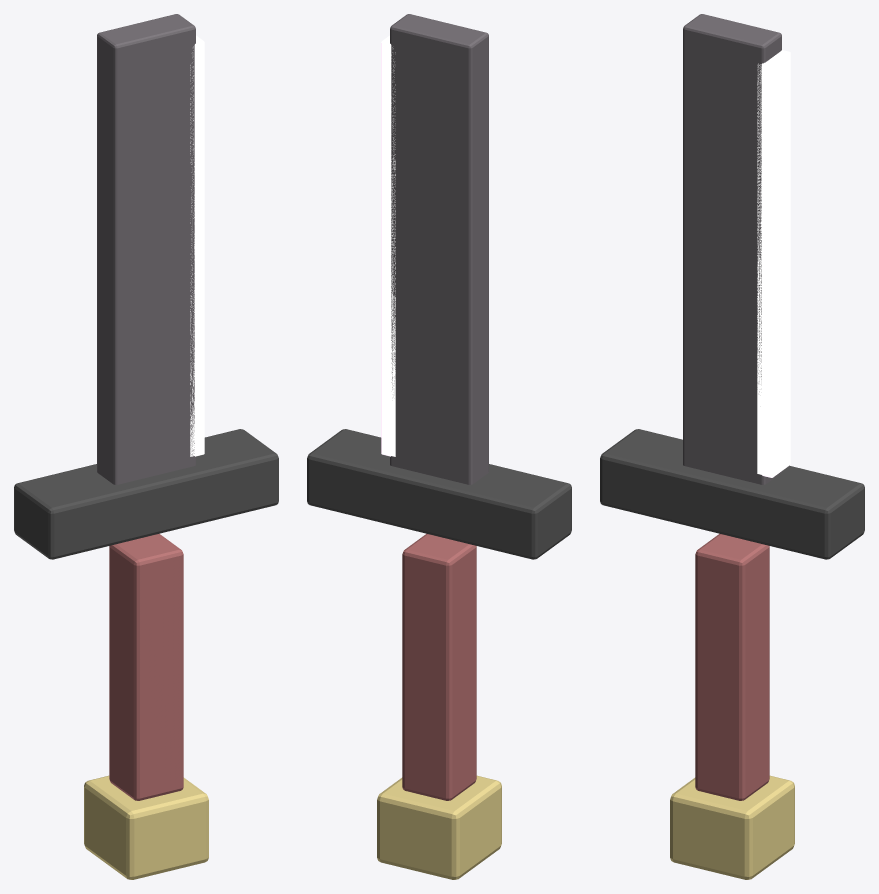
File: weapon_cinderbloom_dagger.glb
3 views of the same model, side by side, from view 1: azimuth 30°, elevation 25°; view 2: azimuth 150°, elevation 25°; view 3: azimuth 330°, elevation 25° (orthographic).
Parts seen in each view (by area): view 1: Blade, Grip, Crossguard, Pommel, Ember_edge; view 2: Blade, Grip, Crossguard, Pommel, Ember_edge; view 3: Blade, Grip, Crossguard, Ember_edge, Pommel.
Part boxes in pixels (x1=…): Blade: x1=97, y1=14, x2=195, y2=484; Grip: x1=109, y1=533, x2=183, y2=800; Crossguard: x1=14, y1=429, x2=278, y2=559; Pommel: x1=84, y1=775, x2=208, y2=879; Ember_edge: x1=190, y1=35, x2=204, y2=456; Blade: x1=390, y1=14, x2=488, y2=484; Grip: x1=402, y1=533, x2=476, y2=800; Crossguard: x1=307, y1=429, x2=571, y2=559; Pommel: x1=377, y1=775, x2=501, y2=879; Ember_edge: x1=381, y1=35, x2=395, y2=456; Blade: x1=683, y1=14, x2=781, y2=484; Grip: x1=695, y1=533, x2=769, y2=800; Crossguard: x1=600, y1=429, x2=864, y2=559; Ember_edge: x1=757, y1=50, x2=790, y2=477; Pommel: x1=670, y1=775, x2=794, y2=879.
Bounding box in the file's own units: 0.14 × 0.48 × 0.05.
